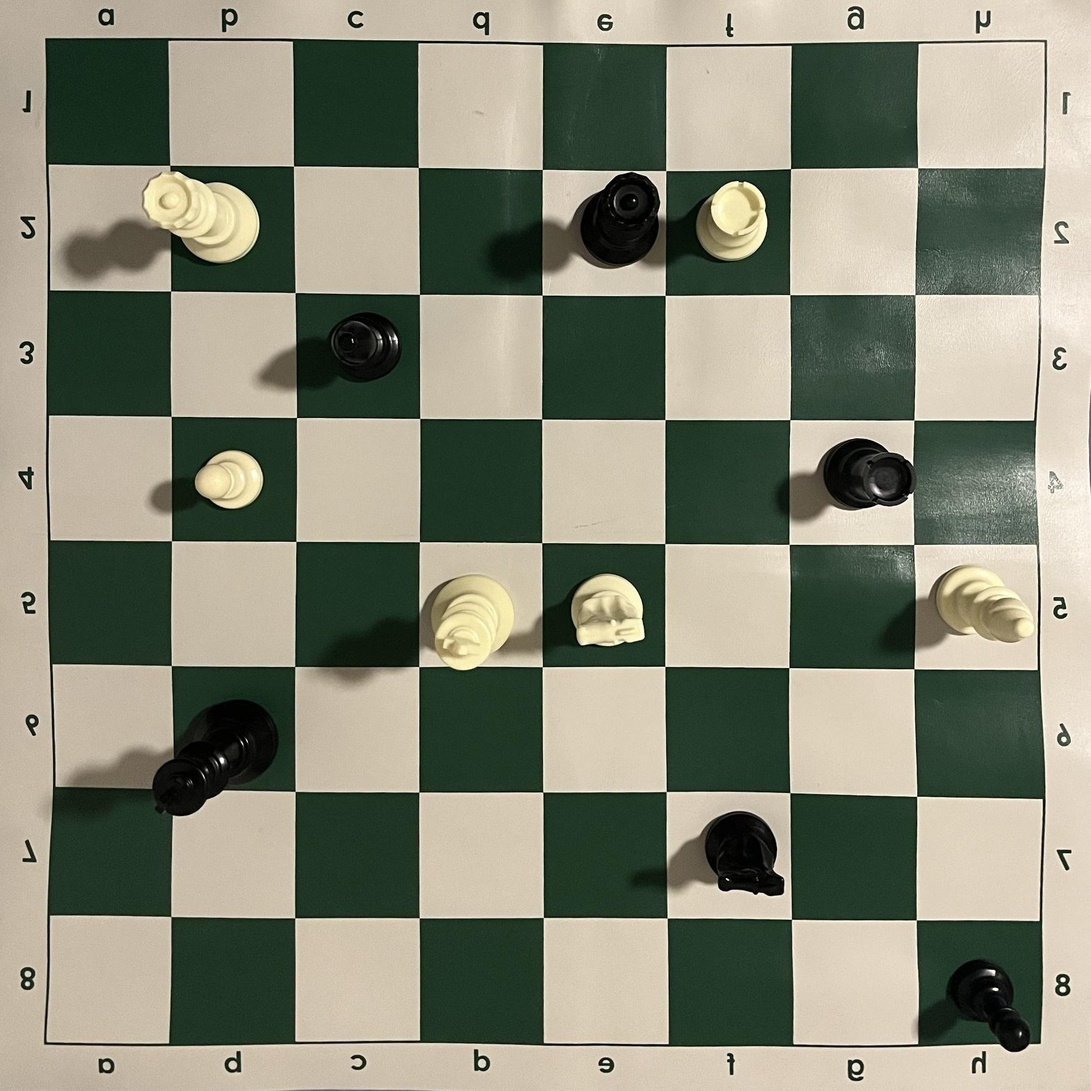black_king: (151, 698, 279, 819)
black_knight: (703, 810, 784, 897)
black_pawn: (947, 959, 1032, 1054), (329, 311, 403, 383)
black_queen: (579, 171, 660, 268)
black_rook: (822, 437, 917, 510)
white_bishop: (934, 564, 1036, 644)
white_king: (429, 572, 516, 673)
white_knight: (570, 573, 645, 647)
white_pawn: (193, 449, 265, 510)
white_queen: (141, 171, 260, 264)
white_rook: (695, 180, 767, 262)
